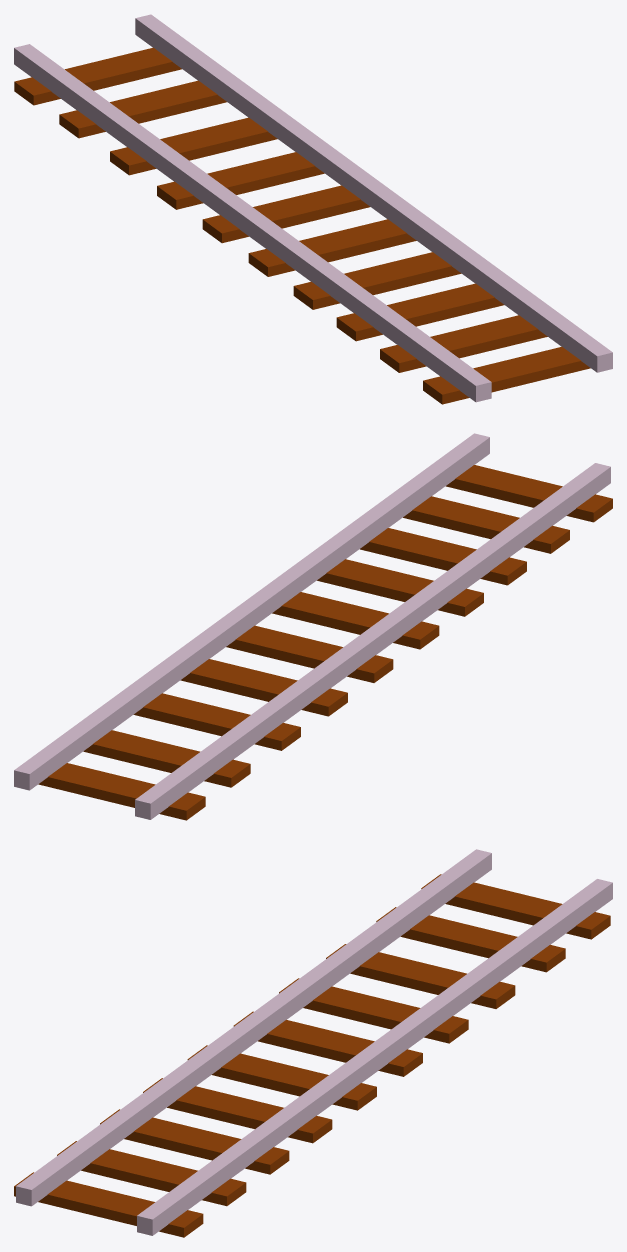
Rendered from tory.fbx.
The picture shows the model from 3 angles, top to bottom: view 1: azimuth 30°, elevation 25°; view 2: azimuth 150°, elevation 25°; view 3: azimuth 330°, elevation 25°; orthographic projection.
Parts seen in each view (by area): view 1: Cube.001, Cube, Cube.004, Cube.006, Cube.005, Cube.010, Cube.003, Cube.007, Cube.011, Cube.002, Cube.009, Cube.008; view 2: Cube.001, Cube, Cube.011, Cube.006, Cube.010, Cube.007, Cube.008, Cube.009, Cube.003, Cube.002, Cube.004, Cube.005; view 3: Cube, Cube.001, Cube.004, Cube.002, Cube.008, Cube.007, Cube.009, Cube.010, Cube.011, Cube.003, Cube.005, Cube.006.
Boxes of the visible parts, left/top/right/bottom form: Cube.001: left=135, top=14, right=612, bottom=372; Cube: left=14, top=44, right=491, bottom=402; Cube.004: left=423, top=346, right=590, bottom=404; Cube.006: left=248, top=219, right=416, bottom=276; Cube.005: left=293, top=252, right=461, bottom=309; Cube.010: left=59, top=80, right=226, bottom=138; Cube.003: left=336, top=283, right=503, bottom=341; Cube.007: left=202, top=185, right=369, bottom=243; Cube.011: left=14, top=47, right=181, bottom=105; Cube.002: left=380, top=315, right=547, bottom=372; Cube.009: left=110, top=117, right=277, bottom=175; Cube.008: left=157, top=152, right=324, bottom=209; Cube.001: left=14, top=433, right=489, bottom=790; Cube: left=135, top=463, right=610, bottom=819; Cube.011: left=38, top=763, right=205, bottom=820; Cube.006: left=272, top=592, right=439, bottom=649; Cube.010: left=83, top=730, right=250, bottom=787; Cube.007: left=226, top=625, right=393, bottom=682; Cube.008: left=180, top=659, right=347, bottom=716; Cube.009: left=133, top=693, right=300, bottom=750; Cube.003: left=360, top=528, right=526, bottom=585; Cube.002: left=403, top=496, right=569, bottom=553; Cube.004: left=446, top=465, right=612, bottom=522; Cube.005: left=317, top=559, right=483, bottom=616; Cube: left=16, top=849, right=491, bottom=1206; Cube.001: left=137, top=879, right=612, bottom=1235; Cube.004: left=14, top=1172, right=203, bottom=1237; Cube.002: left=57, top=1141, right=246, bottom=1206; Cube.008: left=279, top=978, right=468, bottom=1043; Cube.007: left=233, top=1011, right=422, bottom=1076; Cube.009: left=326, top=944, right=515, bottom=1008; Cube.010: left=376, top=907, right=565, bottom=972; Cube.011: left=421, top=874, right=610, bottom=939; Cube.003: left=100, top=1109, right=289, bottom=1174; Cube.005: left=143, top=1078, right=332, bottom=1143; Cube.006: left=187, top=1045, right=376, bottom=1110.
Size of the model in its own units: 1022 by 148 by 4789.
